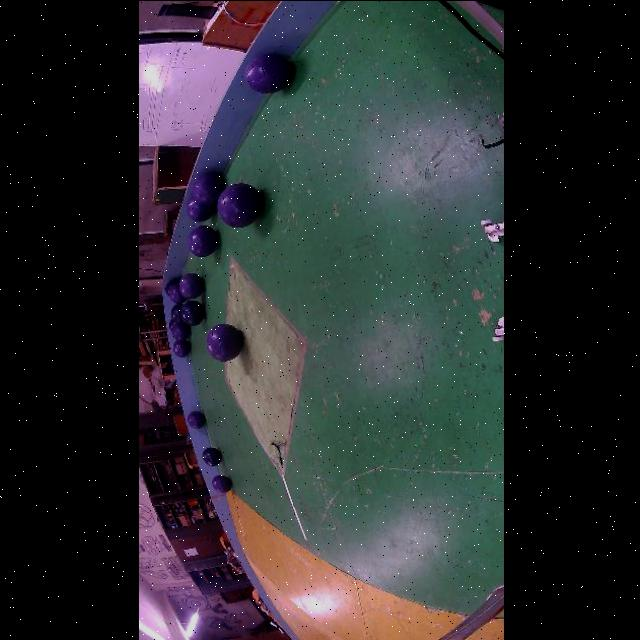B: (180, 300, 204, 325), (201, 446, 221, 465), (163, 277, 179, 293), (170, 302, 182, 323)
P: (217, 182, 262, 227), (243, 53, 293, 93), (205, 323, 242, 361), (191, 171, 223, 204), (187, 225, 218, 257), (186, 196, 215, 221), (179, 272, 204, 298), (167, 282, 186, 302), (212, 474, 231, 493), (171, 321, 189, 340), (186, 410, 204, 428), (172, 339, 190, 357)
